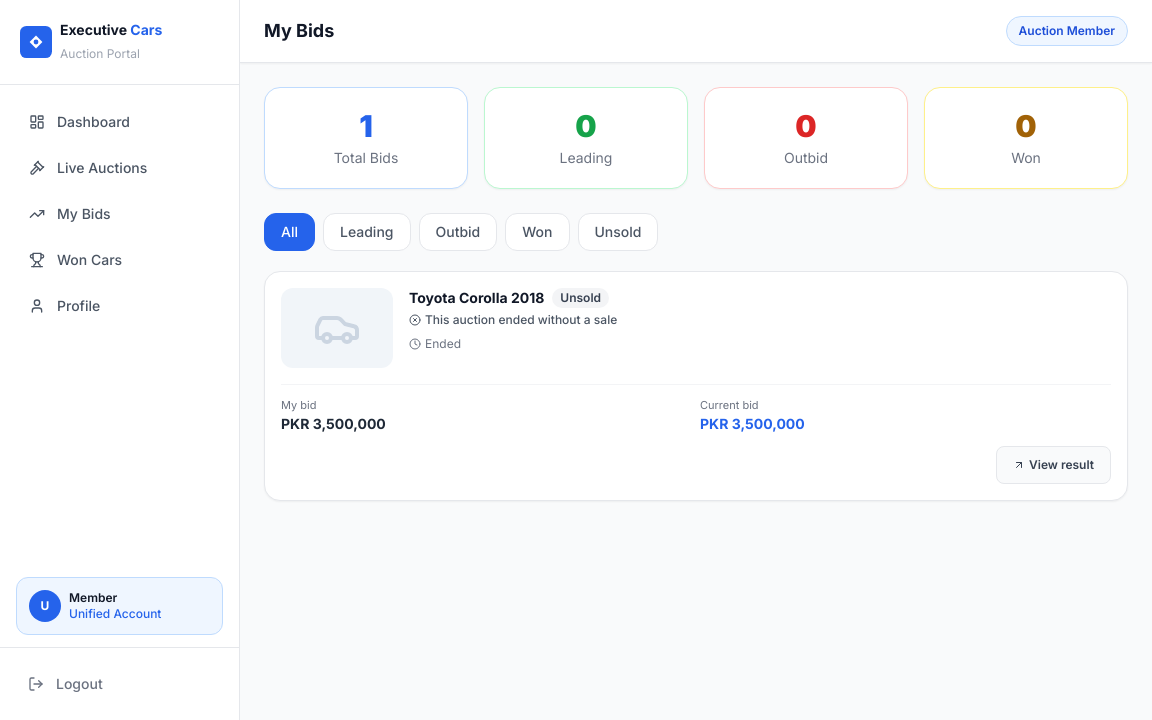
Scenario: AuctionMyBidsPage › shows an unsold highest bid as Unsold, excludes it from Won and offers a result link
expect the text "Unsold" is shown: met, box [552,288,609,308]
Click the button "Won" at [537, 232], box [505,213,570,251]
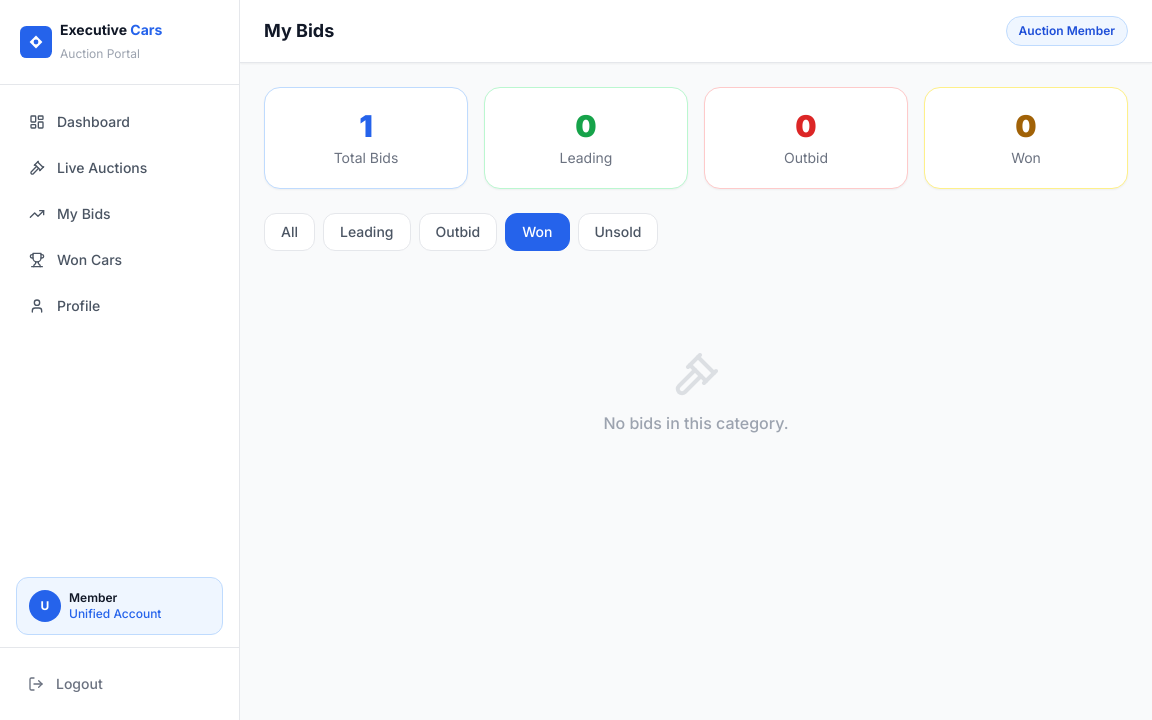
expect the text "No bids in this category." is shown: met, box [603,413,789,433]
